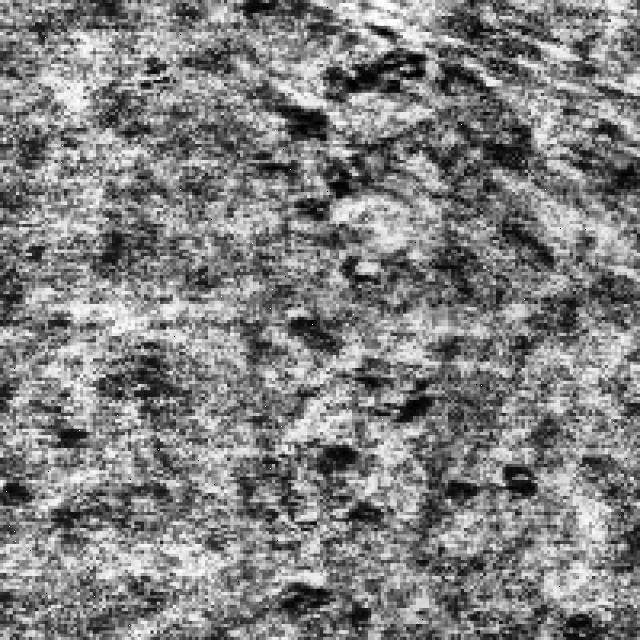Crazing: (352, 358, 563, 493), (336, 10, 445, 100)
